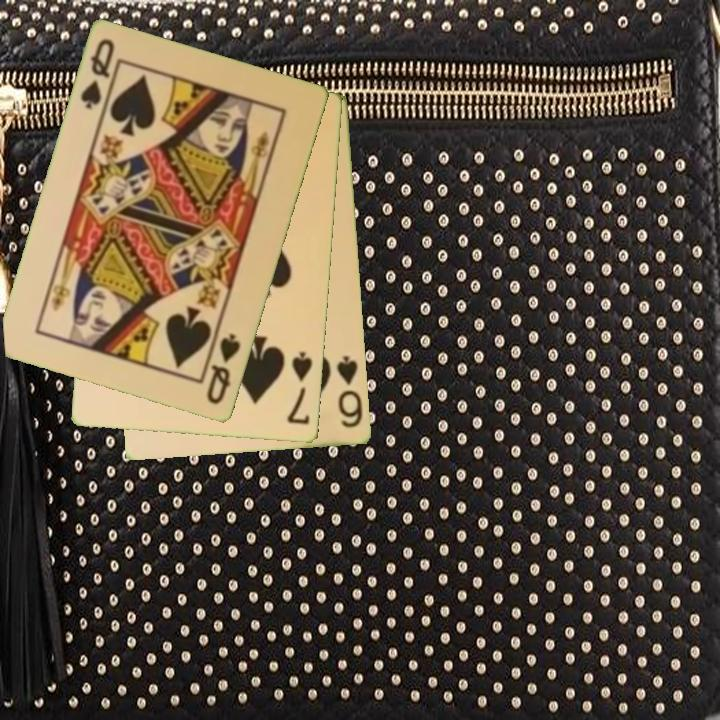6s: (333, 352, 366, 431)
7s: (284, 348, 316, 428)
Qs: (77, 35, 121, 117), (203, 330, 244, 408)
